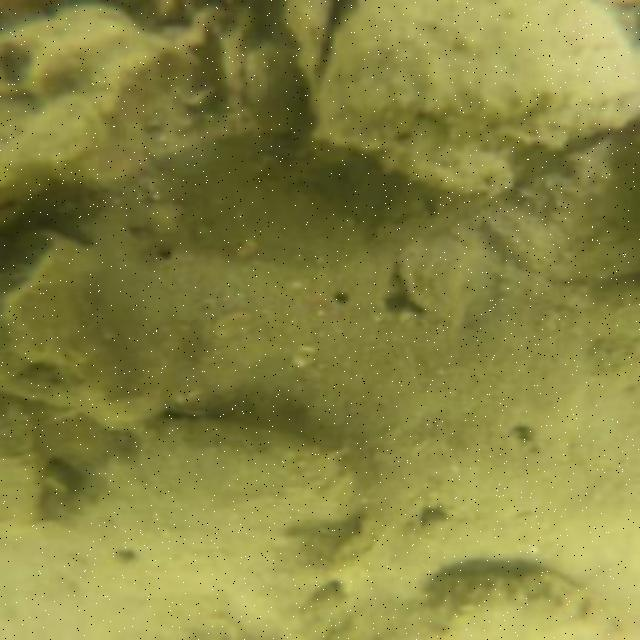Oyster-Closed: (61, 412, 367, 602), (482, 132, 638, 286), (431, 578, 587, 638)
Oyster-Open: (292, 0, 638, 209)
